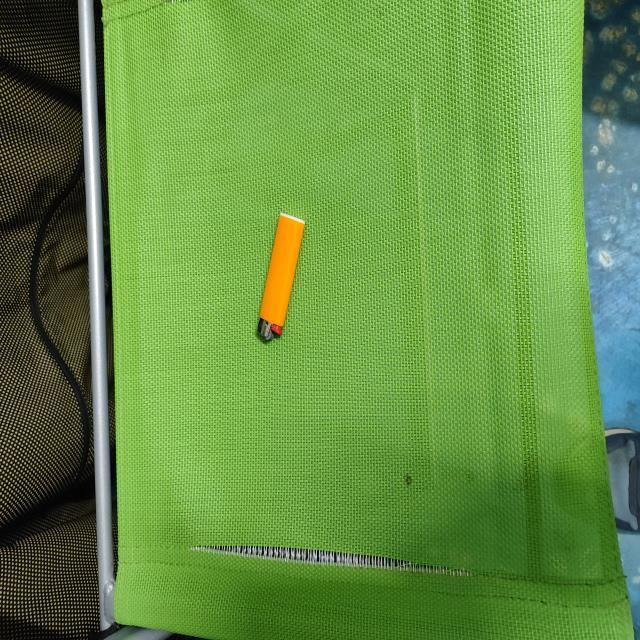lighter: (257, 214, 303, 340)
